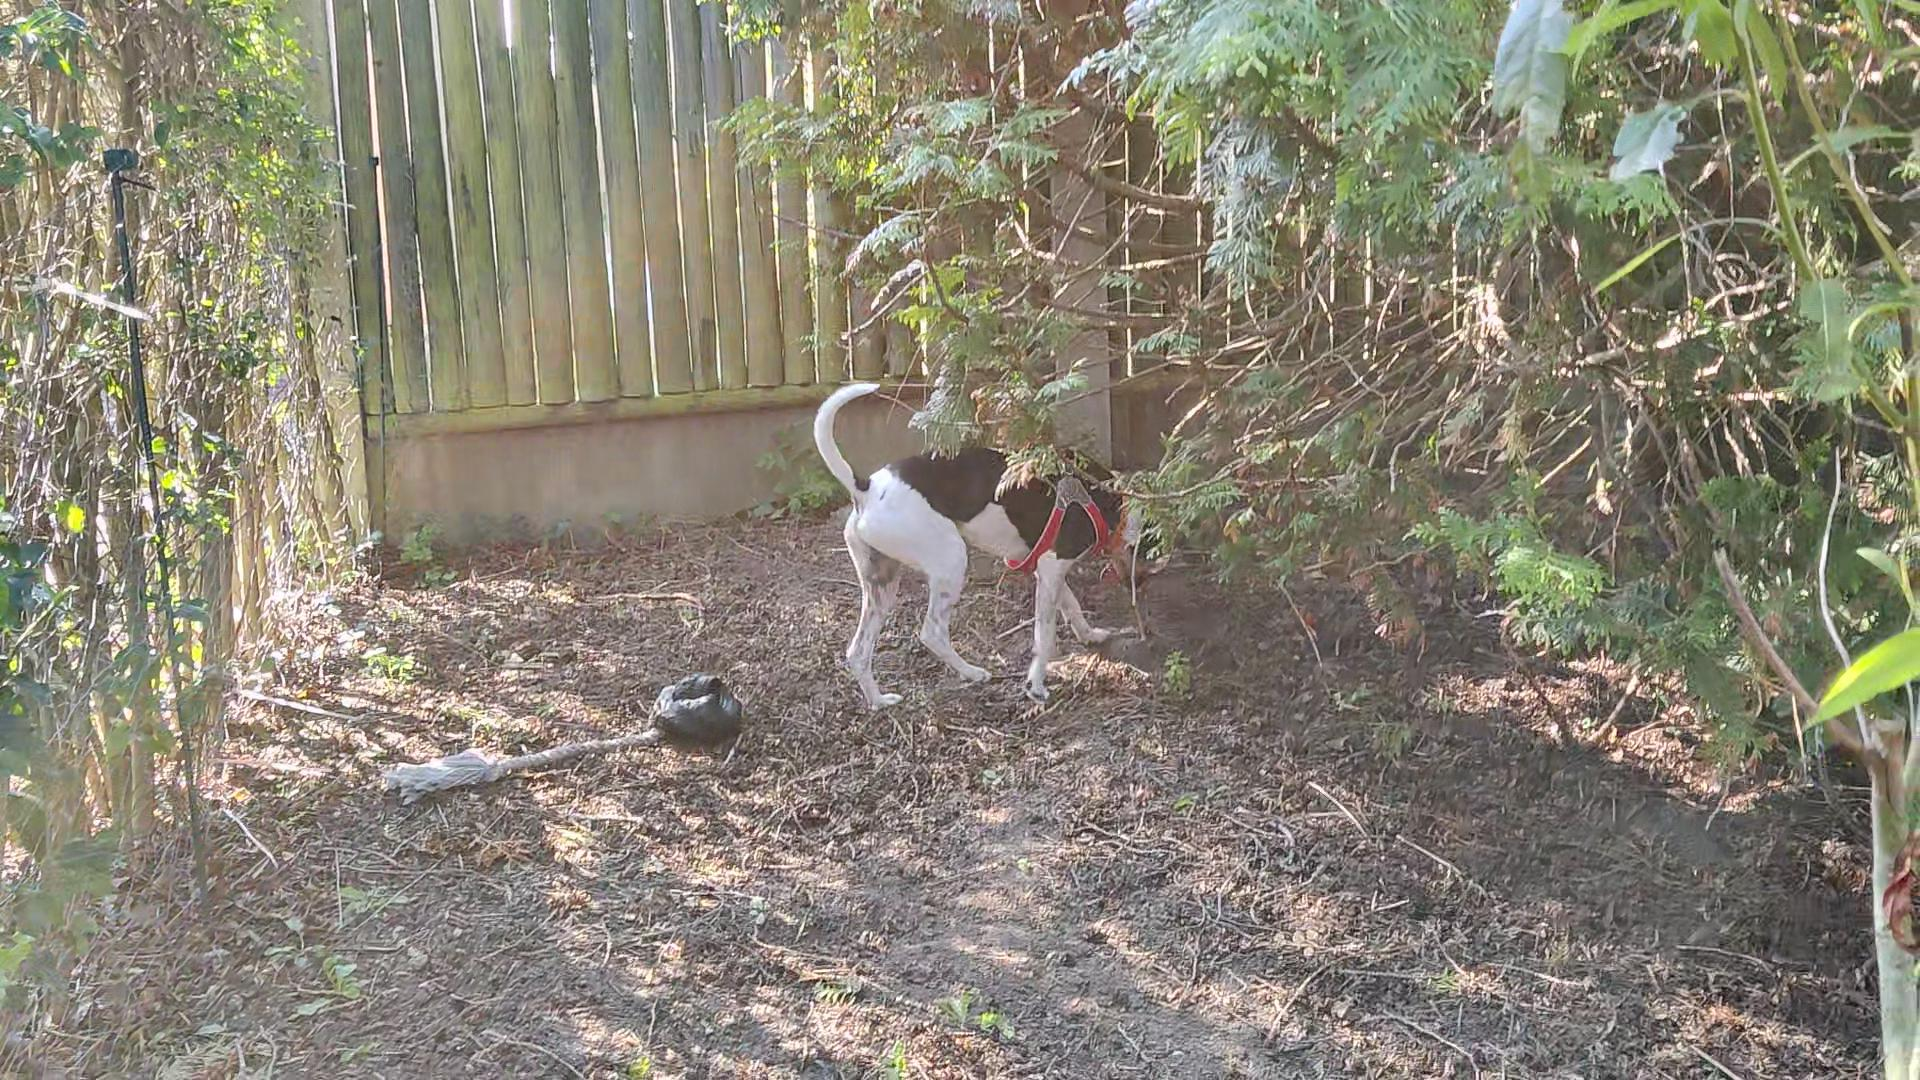Dog: (806, 364, 1175, 713)
